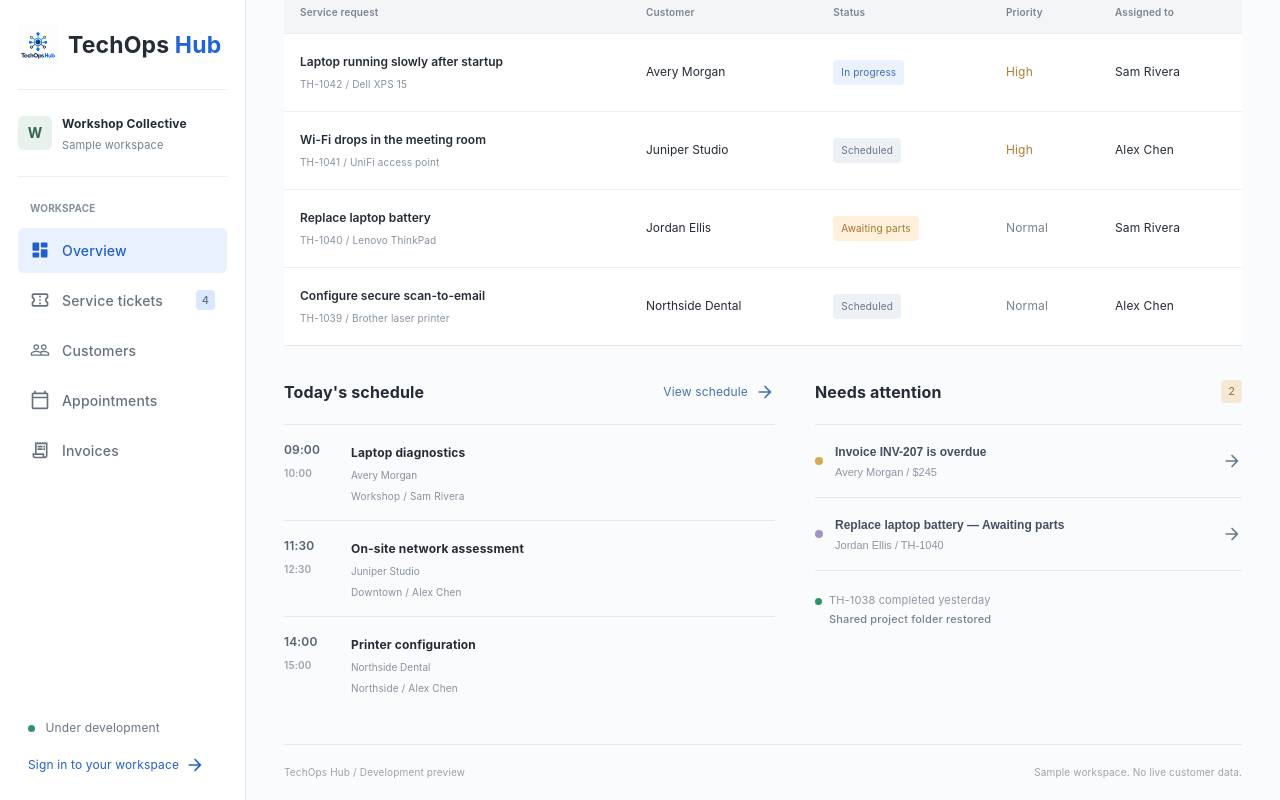
Test: AppProviders › removes a completed ticket from attention and updates the count
(page scrolled)
Expected: the text "2" is shown, [1221,380,1242,403]
What coordinates should you click on to do the following:
click the button "Replace laptop battery"
I would click on:
 (1028, 533)
Its box is [815,496,1242,570].
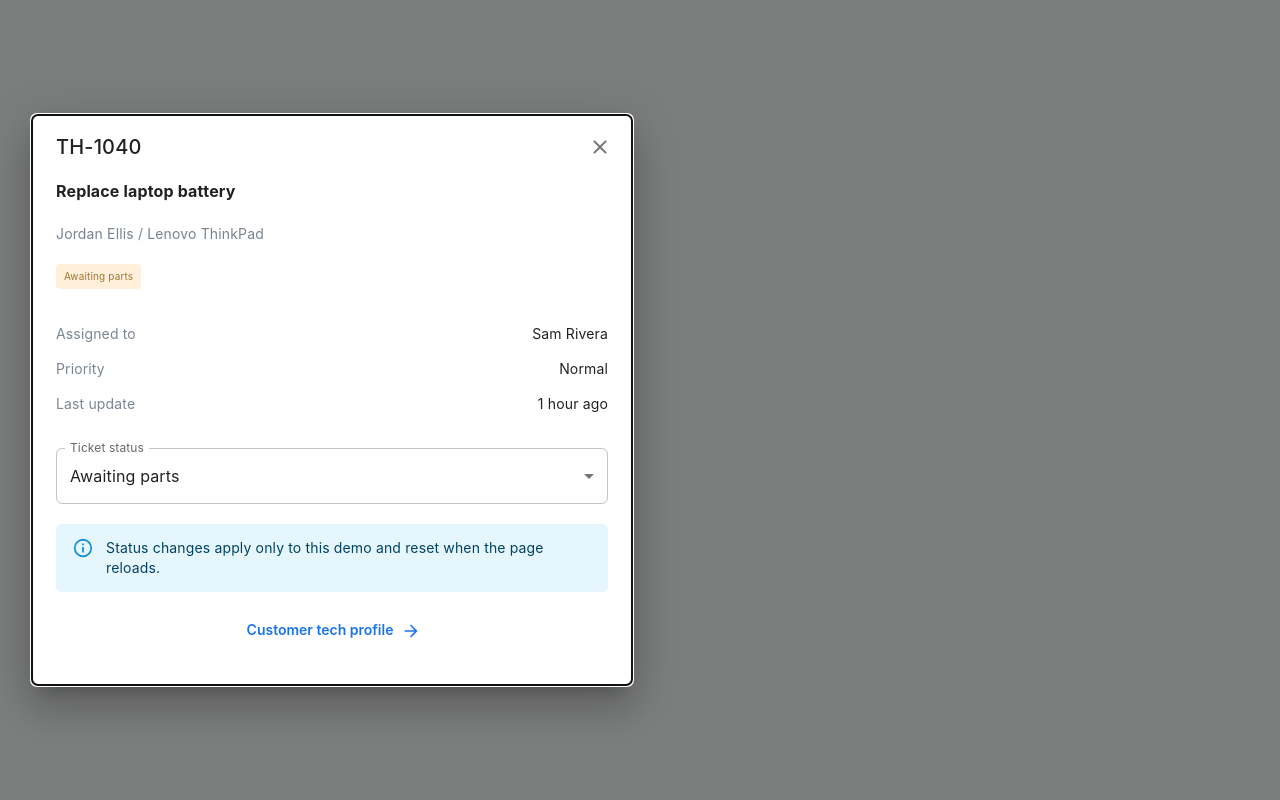
What coordinates should you click on to do the following:
click the dropdown named "Ticket status"
I would click on:
 (125, 476)
Its box is [70,466,180,486].
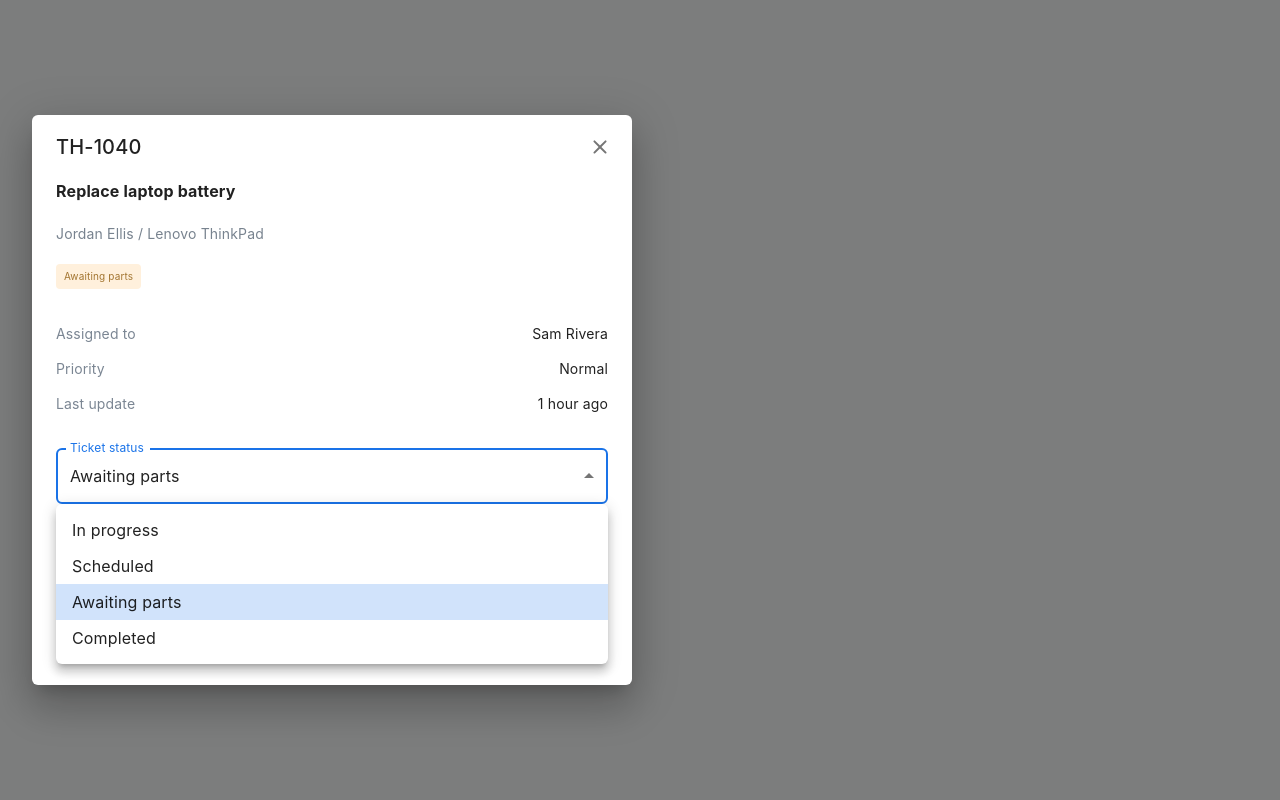
What coordinates should you click on to do the following:
click the option "Completed"
I would click on:
 (114, 638)
Its box is [72,628,156,648].
(page scrolled)
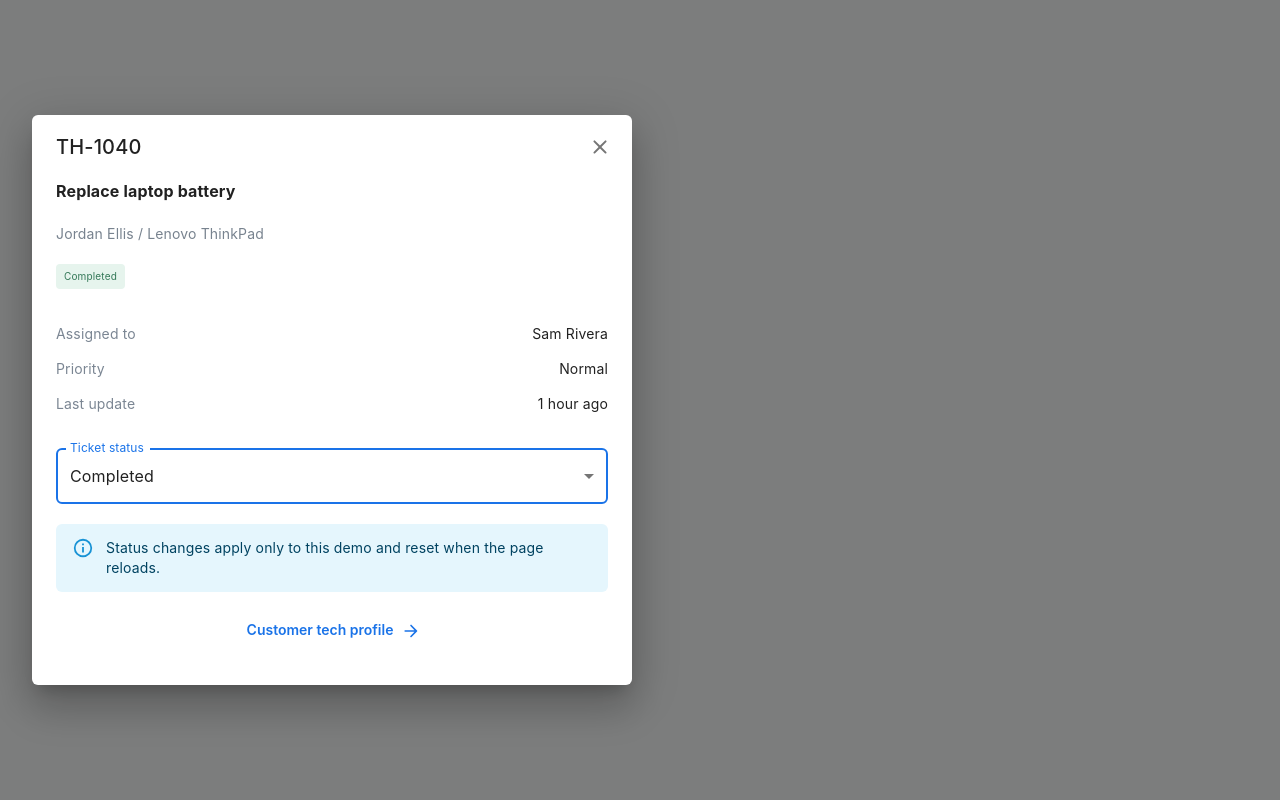
What coordinates should you click on to do the following:
click the button named "Close details"
I would click on:
 (600, 147)
Its box is [580,127,620,167].
(page scrolled)
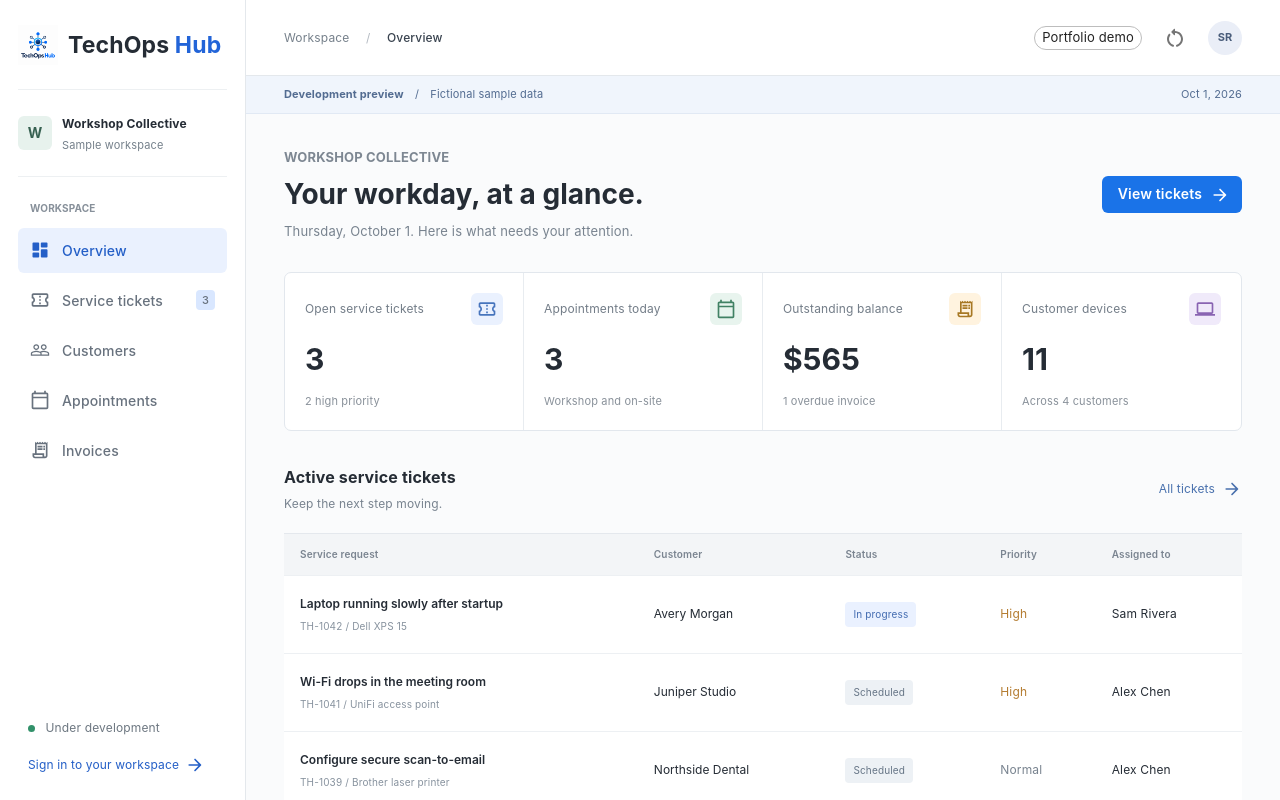
Expected: the dialog is gone
Expected: the heading "Replace laptop battery" is gone
What coordinates should you click on to do the following:
click the button named "Reset demo"
I would click on:
 (1175, 38)
Its box is [1155,18,1195,58].
(page scrolled)
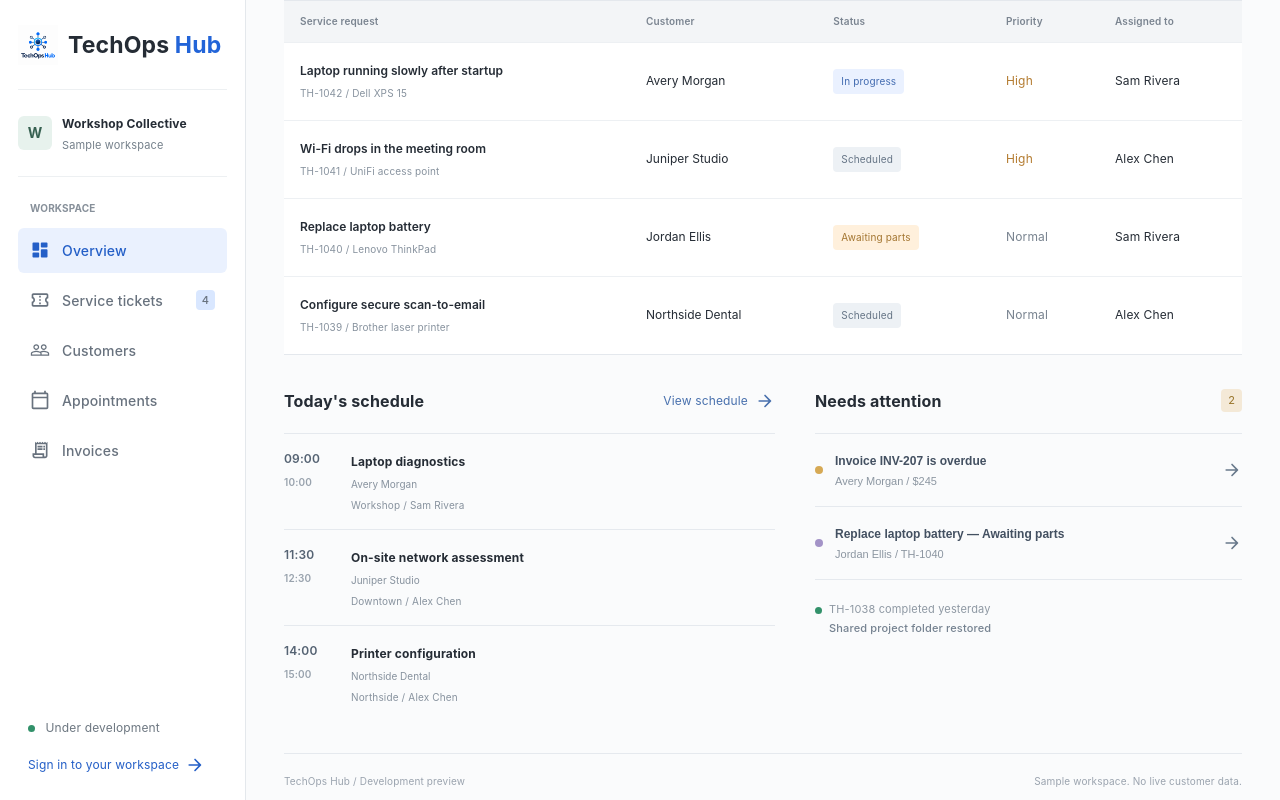
Expected: the text "2" is shown, [1221,389,1242,412]
